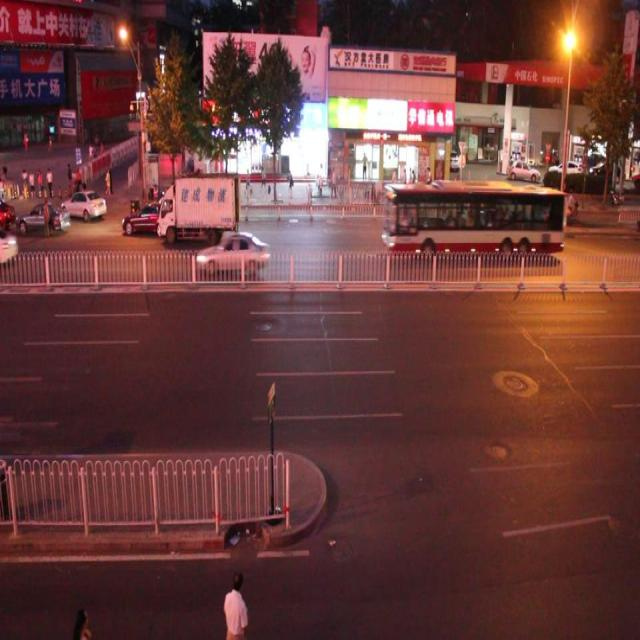bus: (153, 184, 240, 259)
car: (195, 229, 270, 276), (121, 199, 178, 240), (14, 201, 71, 239), (64, 188, 108, 221)
van: (381, 182, 563, 259)
